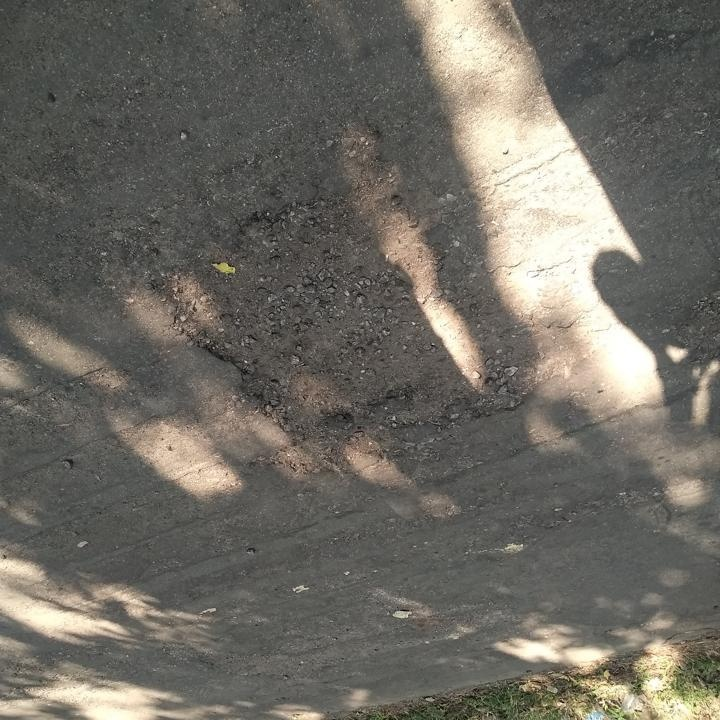pothole: (144, 180, 544, 447)
